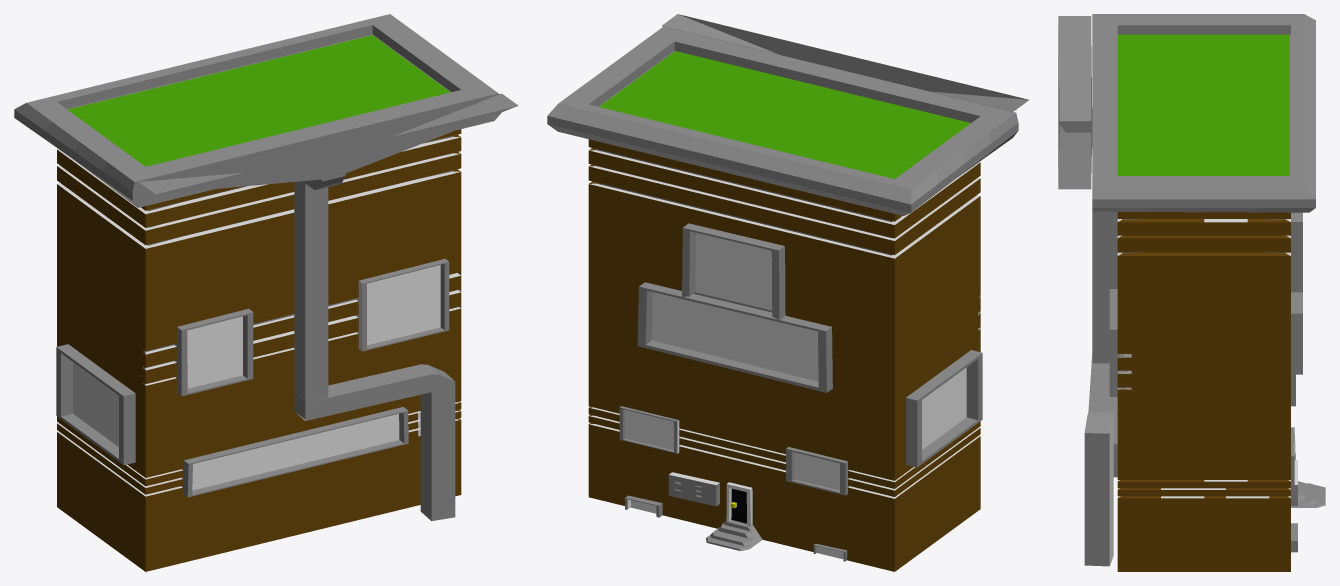
The model's file is huis_4  b.fbx.
3 views of the same model, side by side, from view 1: azimuth 30°, elevation 25°; view 2: azimuth 150°, elevation 25°; view 3: azimuth 270°, elevation 25° (orthographic). The views are drawn at different scales.
Visible parts, largest first — view 1: Cube; view 2: Cube; view 3: Cube.
Part boxes in pixels (box(x1,y1,x2,y2)): Cube: box(14, 14, 518, 571); Cube: box(547, 14, 1028, 571); Cube: box(1058, 14, 1325, 571).
Size of the model in its own units: 3305 by 3447 by 2085.
